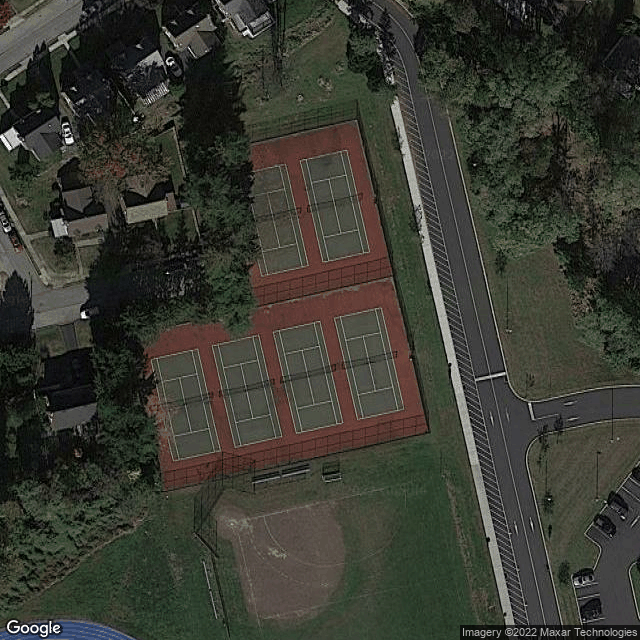Court: (331, 305, 405, 421), (299, 148, 373, 262), (272, 320, 345, 434), (148, 349, 220, 461), (210, 334, 279, 449), (243, 162, 308, 277)
